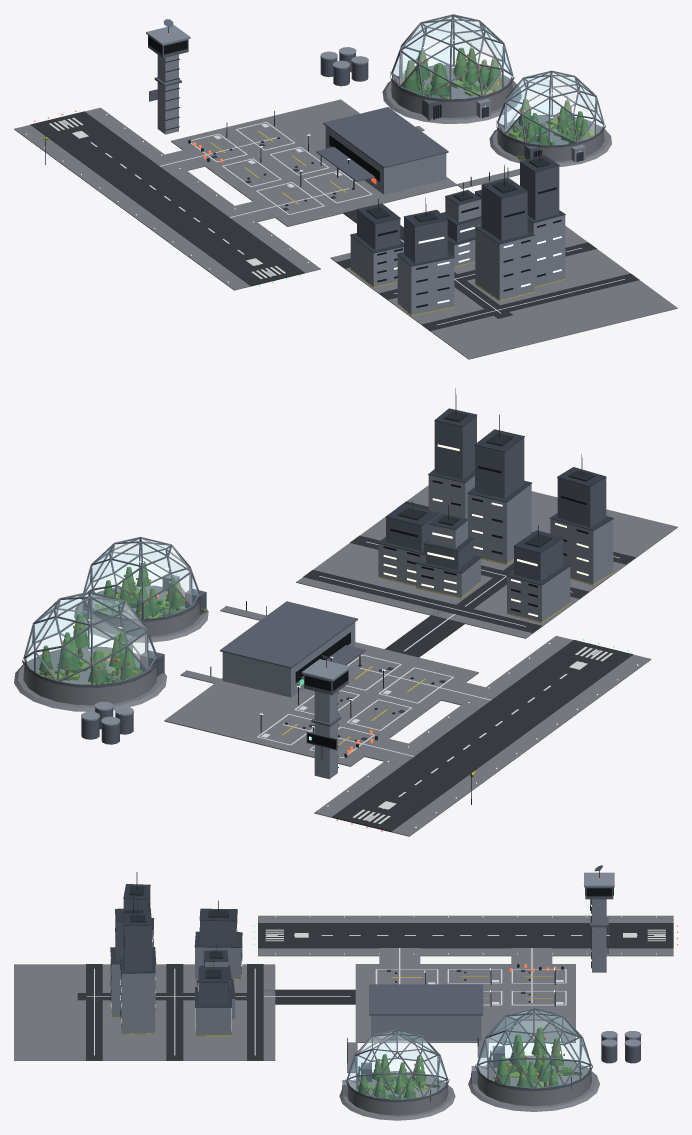
Rendered from city-port-l.glb.
The picture shows the model from 3 angles, top to bottom: view 1: azimuth 30°, elevation 25°; view 2: azimuth 150°, elevation 25°; view 3: azimuth 270°, elevation 25°; orthographic projection. The views are drawn at different scales.
Parts seen in each view (by area): view 1: apron, cityPlaza, strip, dome0Glazing, terminalRoof, stripShoulder1, dome1Glazing, city4Mass0, stripShoulder0, city3Mass0, terminal, city5Mass0 (+22 smaller); view 2: apron, strip, cityPlaza, dome0Glazing, terminalRoof, stripShoulder1, dome1Glazing, city4Mass0, stripShoulder0, city3Mass0, terminal, dome0StemWall (+24 smaller); view 3: cityPlaza, strip, apron, dome0Glazing, terminalRoof, dome1Glazing, stripShoulder1, stripShoulder0, terminal, city5Mass0, dome0StemWall, dome0Kerb (+19 smaller).
Part boxes in pixels (<box>): apron: <box>171,99,457,226</box>; cityPlaza: <box>330,226,677,359</box>; strip: <box>30,111,304,286</box>; dome0Glazing: <box>393,16,511,98</box>; terminalRoof: <box>323,107,448,168</box>; stripShoulder1: <box>14,125,250,290</box>; dome1Glazing: <box>498,72,602,144</box>; city4Mass0: <box>475,228,534,301</box>; stripShoulder0: <box>85,107,320,273</box>; city3Mass0: <box>397,255,454,316</box>; terminal: <box>325,126,446,194</box>; city5Mass0: <box>527,215,565,287</box>; apron: <box>164,642,478,766</box>; strip: <box>332,640,633,832</box>; cityPlaza: <box>296,485,677,638</box>; dome0Glazing: <box>26,593,155,684</box>; terminalRoof: <box>220,601,357,668</box>; stripShoulder1: <box>392,654,651,836</box>; dome1Glazing: <box>85,539,198,618</box>; city4Mass0: <box>467,484,531,564</box>; stripShoulder0: <box>314,635,572,817</box>; city3Mass0: <box>550,518,613,585</box>; terminal: <box>222,622,355,697</box>; dome0StemWall: <box>23,660,157,705</box>; cityPlaza: <box>14,964,275,1060</box>; strip: <box>258,923,673,948</box>; apron: <box>355,964,575,1042</box>; dome0Glazing: <box>478,1009,589,1087</box>; terminalRoof: <box>369,984,483,1015</box>; dome1Glazing: <box>348,1030,446,1098</box>; stripShoulder1: <box>258,915,673,922</box>; stripShoulder0: <box>258,948,673,956</box>; terminal: <box>371,1015,481,1040</box>; city5Mass0: <box>120,964,155,1034</box>; dome0StemWall: <box>477,1067,591,1106</box>; dome0Kerb: <box>468,1055,599,1111</box>.
Bounding box in the file's own units: 149 × 43.99 × 198.
